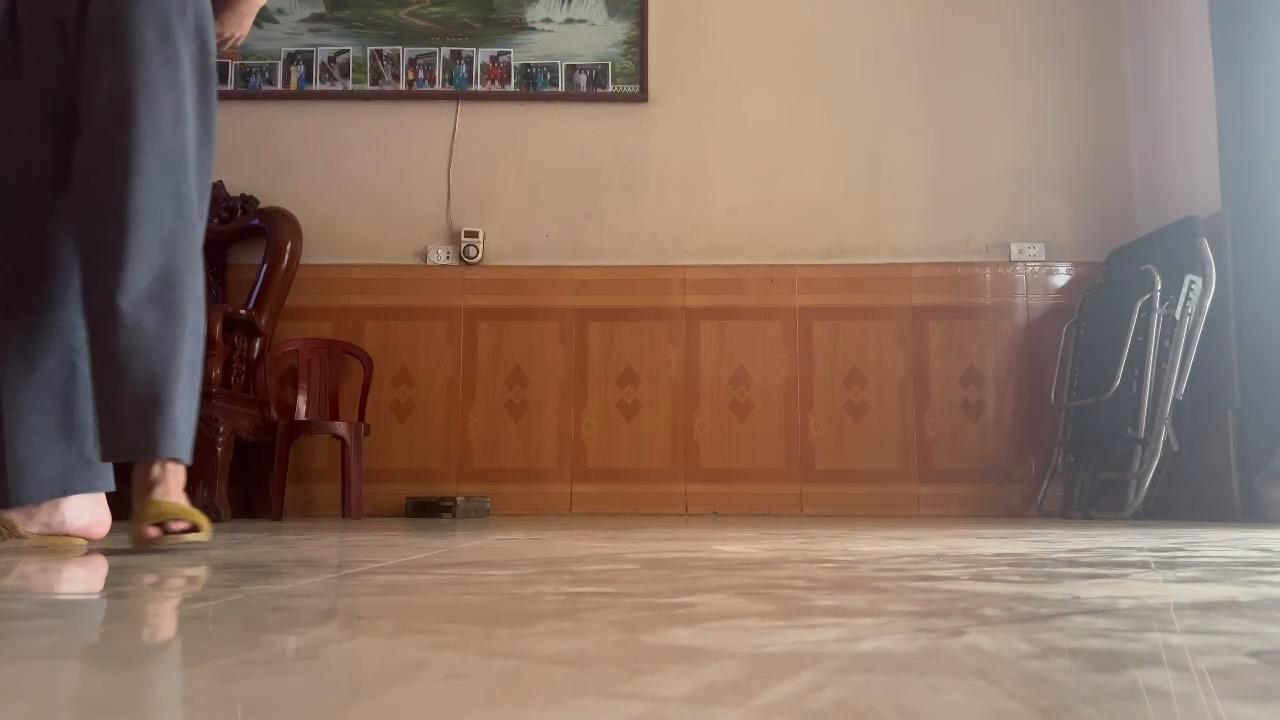no-boot: (0, 485, 117, 557), (125, 479, 222, 561)
